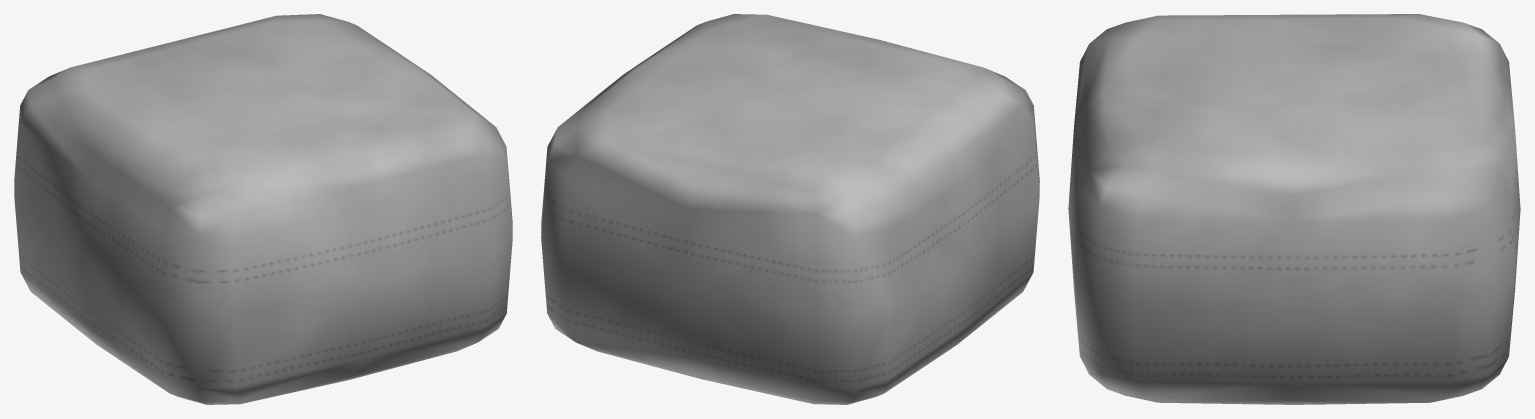
File: RightUpperArm_C1.fbx
3 renders of one model, left to right at view 1: azimuth 30°, elevation 25°; view 2: azimuth 150°, elevation 25°; view 3: azimuth 270°, elevation 25°, orthographic. The views are drawn at different scales.
Parts seen in each view (by area): view 1: Civ_ChalecoObra_RightUpperArm_C1; view 2: Civ_ChalecoObra_RightUpperArm_C1; view 3: Civ_ChalecoObra_RightUpperArm_C1.
Part boxes in pixels (x1,y1,x2,y2): Civ_ChalecoObra_RightUpperArm_C1: (14, 14, 512, 404); Civ_ChalecoObra_RightUpperArm_C1: (541, 14, 1039, 404); Civ_ChalecoObra_RightUpperArm_C1: (1068, 14, 1520, 404).
Size of the model in its own units: 1.22 by 0.7543 by 1.22.
